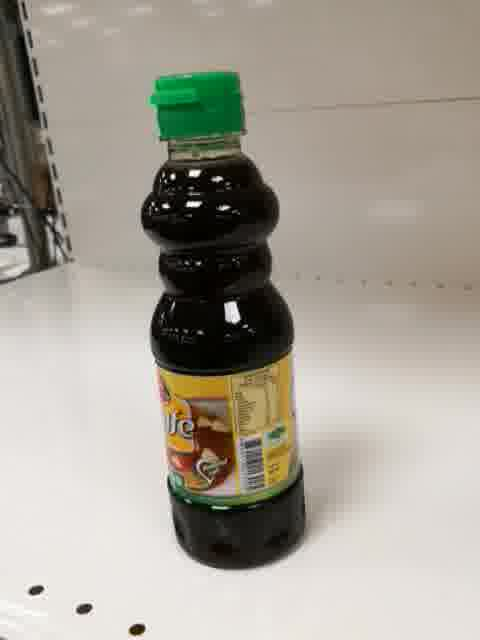cookingoil: (139, 70, 309, 573)
